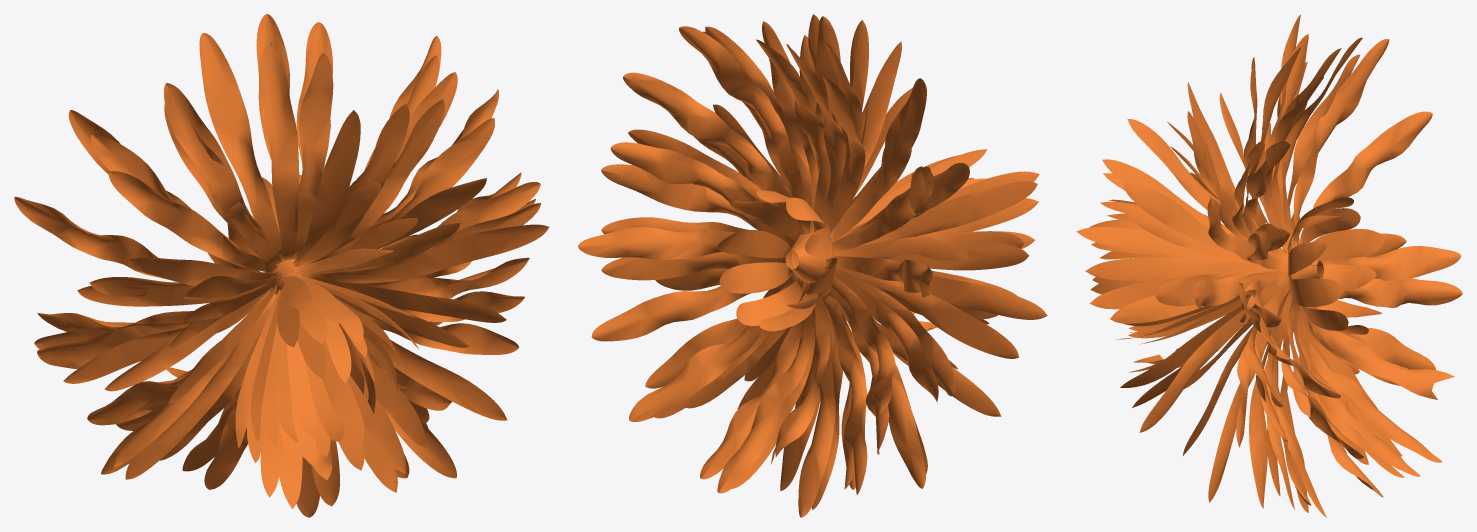
Rendered from HF _Rose_03.fbx.
3 renders of one model, left to right at view 1: azimuth 30°, elevation 25°; view 2: azimuth 150°, elevation 25°; view 3: azimuth 270°, elevation 25°, orthographic. The views are drawn at different scales.
Parts seen in each view (by area): view 1: 菊花; view 2: 菊花; view 3: 菊花.
Boxes of the visible parts, <box> form: 菊花: <box>14,14,548,517</box>; 菊花: <box>578,14,1047,517</box>; 菊花: <box>1076,14,1462,517</box>.
Size of the model in its own units: 21.92 by 22.61 by 17.44.
